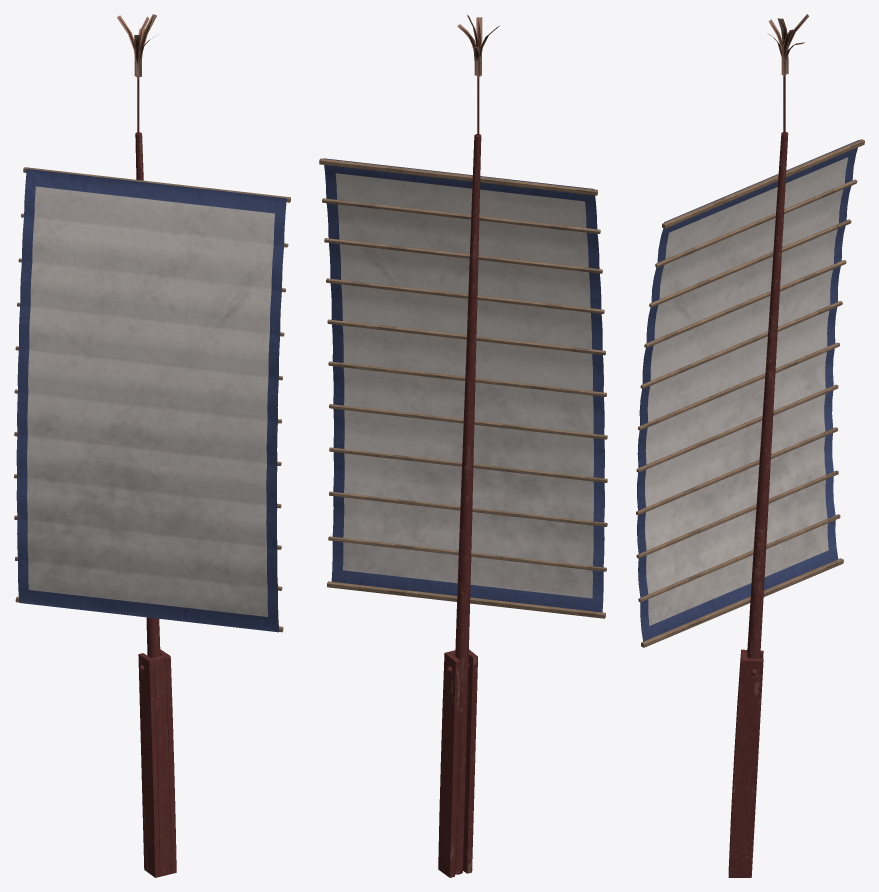
The model's file is SM_Mast02a.fbx.
3 renders of one model, left to right at view 1: azimuth 30°, elevation 25°; view 2: azimuth 210°, elevation 25°; view 3: azimuth 270°, elevation 25°, orthographic. The views are drawn at different scales.
Parts seen in each view (by area): view 1: SM_Mast02a; view 2: SM_Mast02a; view 3: SM_Mast02a.
Boxes of the visible parts, left/top/right/bottom form: SM_Mast02a: left=14, top=14, right=290, bottom=877; SM_Mast02a: left=319, top=15, right=607, bottom=877; SM_Mast02a: left=636, top=14, right=864, bottom=877.
Size of the model in its own units: 598 by 2473 by 598.
